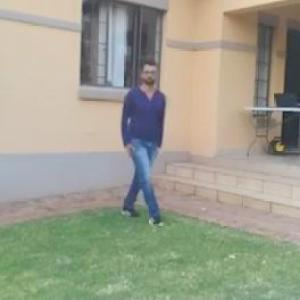follow: (110, 64, 163, 219)
